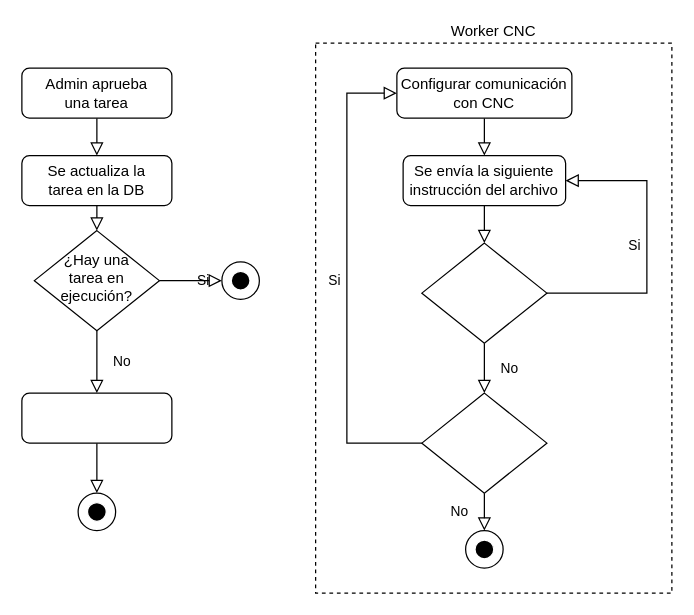
This 694x615 diagram has some shape labels left out. The centre of each missing label's shape, as x and y in pixels:
"Iniciar worker CNC" belongs at point (96, 417).
"¿Hay tareas en cola?" belongs at point (484, 442).
"¿Quedan instrucciones por ejecutar?" belongs at point (484, 292).
